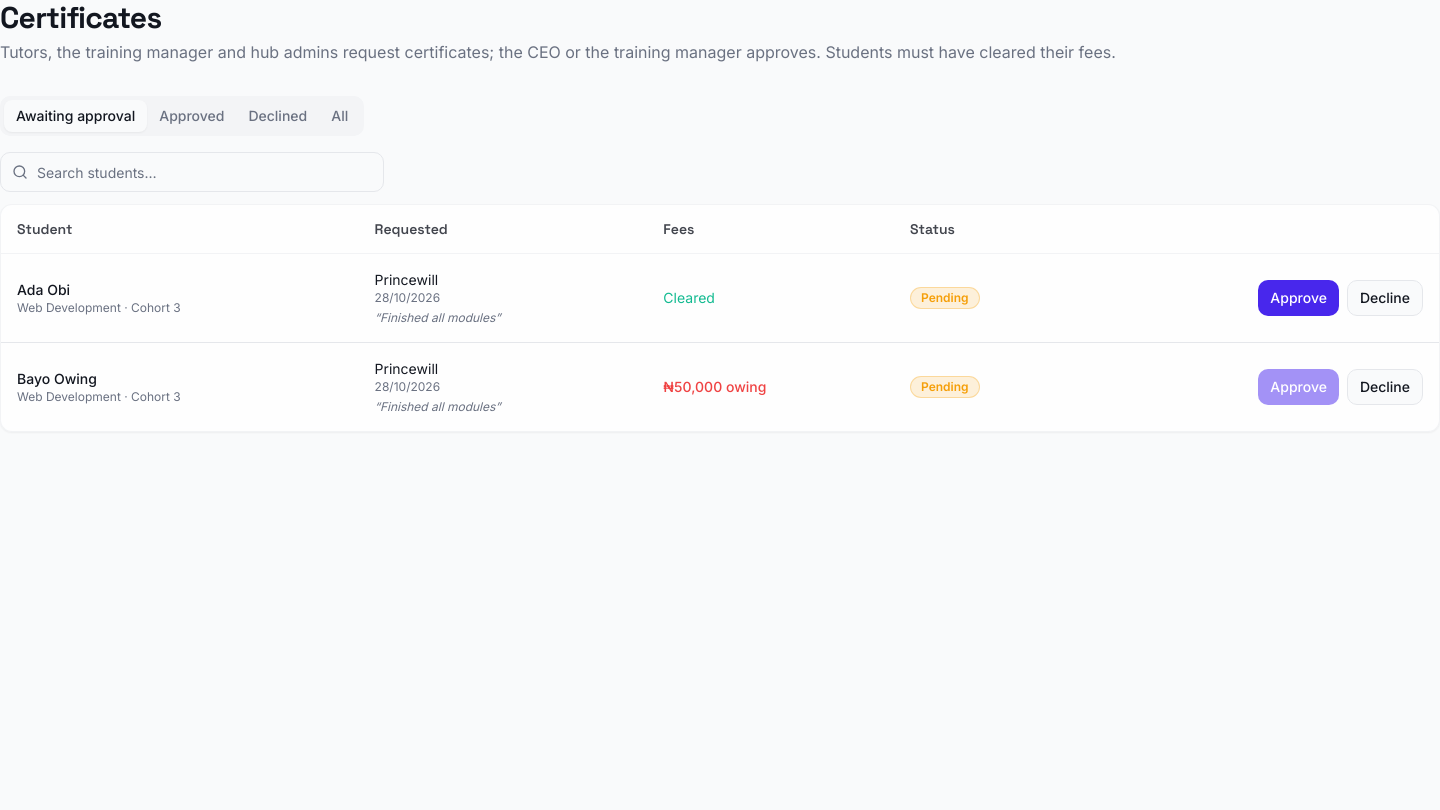
Test case: CertificatesPage › needs a reason to decline
Later steps or results of the test are not shown.
Click the button "Decline" in the row of "Ada Obi" at (1385, 298), box top-left (1347, 280), bottom-right (1423, 316)
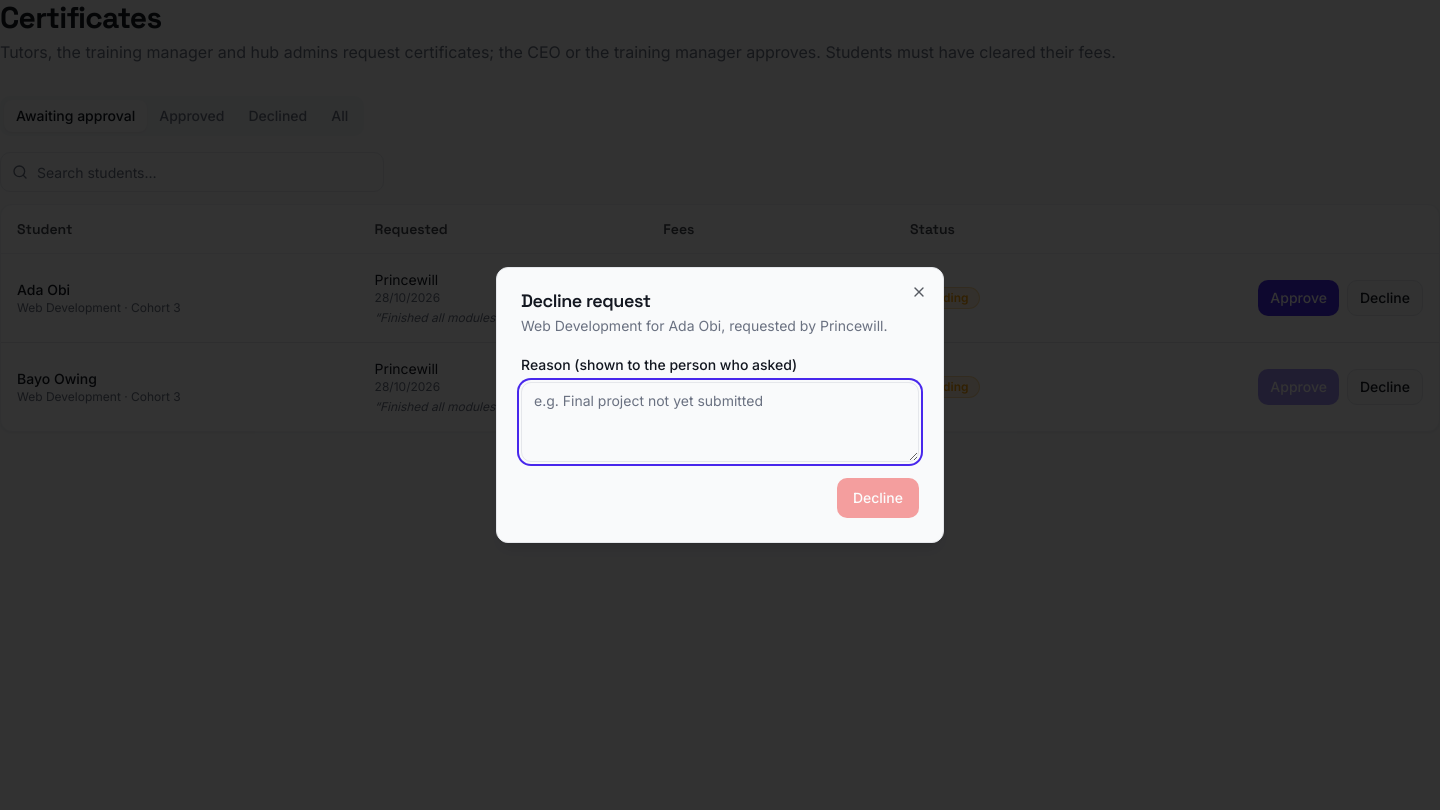
Now the button "Decline" is disabled, box top-left (837, 478), bottom-right (919, 518)
